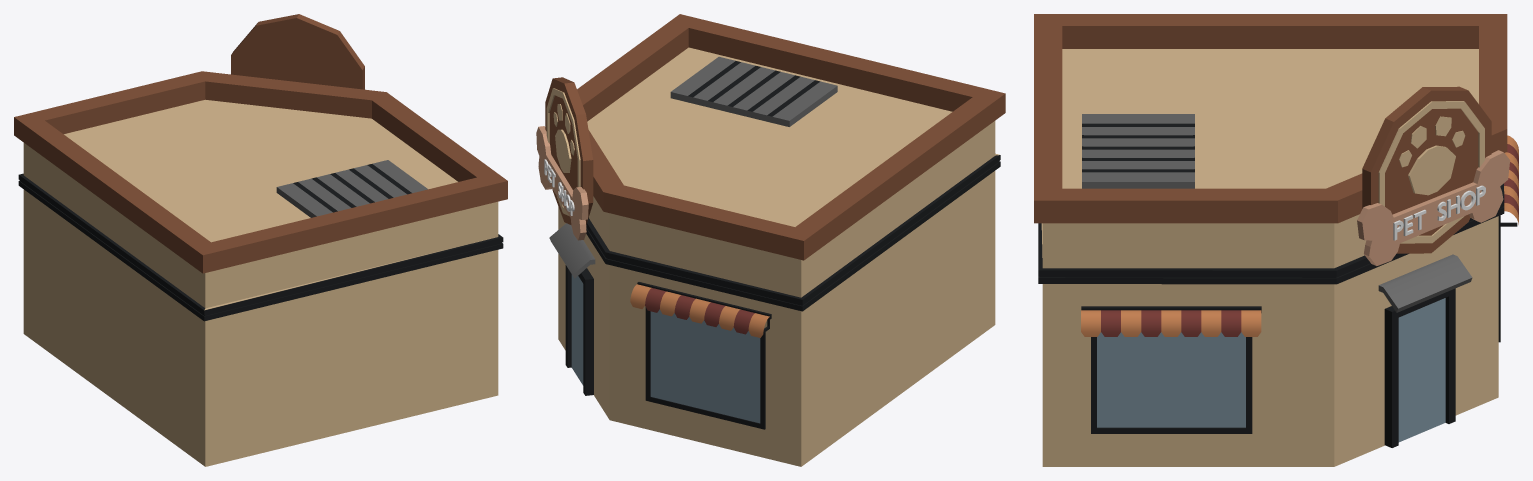
File: pet shop.fbx
3 views of the same model, side by side, from view 1: azimuth 30°, elevation 25°; view 2: azimuth 150°, elevation 25°; view 3: azimuth 270°, elevation 25° (orthographic). The views are drawn at different scales.
Visible parts, largest first — view 1: pet; view 2: pet; view 3: pet.
Part boxes in pixels (left/top/right/bottom): pet: left=14, top=14, right=507, bottom=466; pet: left=536, top=14, right=1005, bottom=466; pet: left=1034, top=14, right=1518, bottom=466.
Bounding box in the file's own units: 962 × 818 × 1030.
